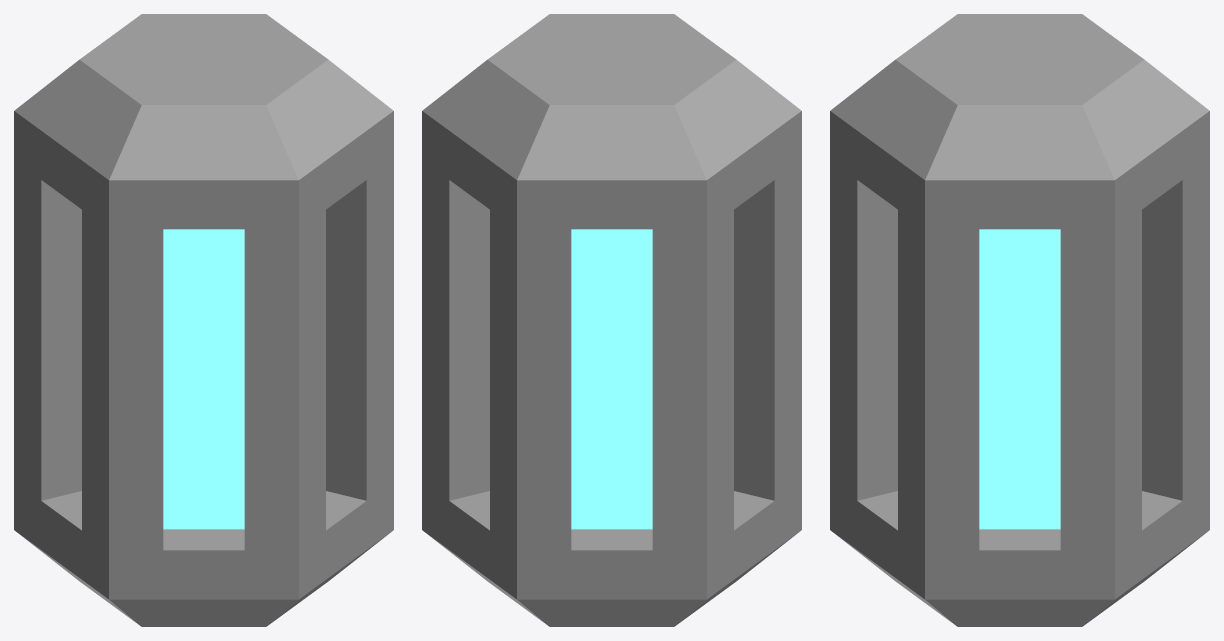
3 views of the same model, side by side, from view 1: azimuth 30°, elevation 25°; view 2: azimuth 150°, elevation 25°; view 3: azimuth 270°, elevation 25° (orthographic).
Parts seen in each view (by area): view 1: SM_Capsule1; view 2: SM_Capsule1; view 3: SM_Capsule1.
Part boxes in pixels (left/top/right/bottom): SM_Capsule1: left=14, top=14, right=393, bottom=626; SM_Capsule1: left=422, top=14, right=801, bottom=626; SM_Capsule1: left=830, top=14, right=1209, bottom=626.
Bounding box in the file's own units: 6.1 × 10.69 × 7.05.
